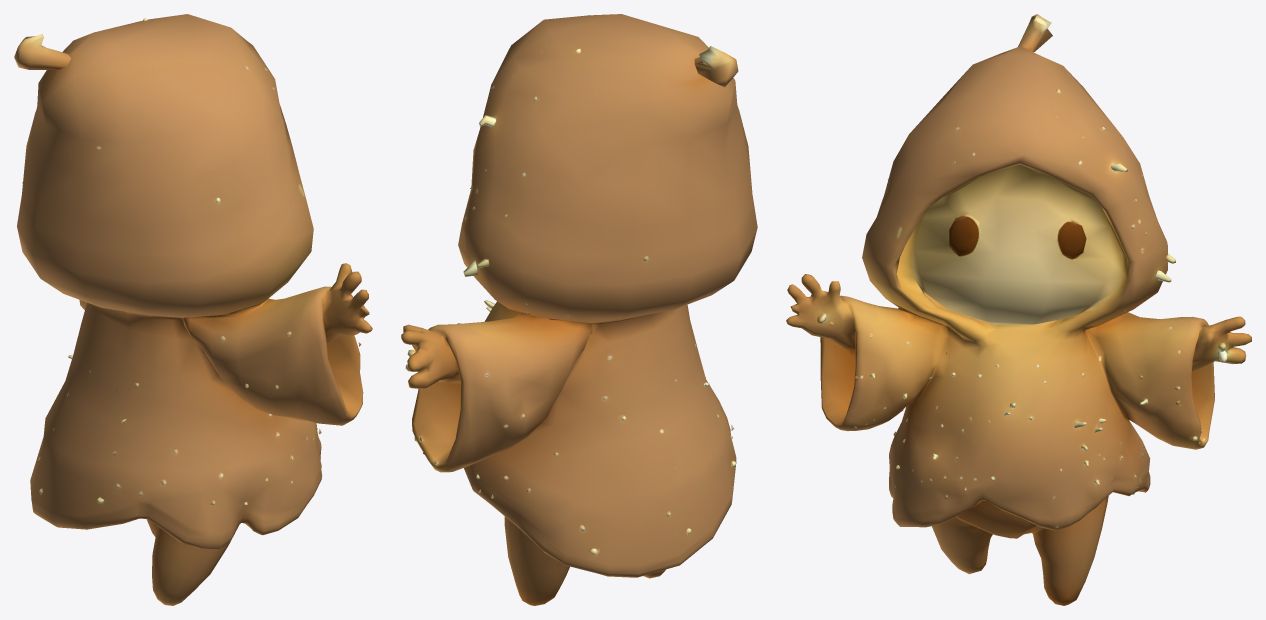
3 views of the same model, side by side, from view 1: azimuth 30°, elevation 25°; view 2: azimuth 150°, elevation 25°; view 3: azimuth 270°, elevation 25° (orthographic). The views are drawn at different scales.
Parts seen in each view (by area): view 1: tripo_node_4e6ad9df-aeb4-464b-8acd-00b65ca3df35; view 2: tripo_node_4e6ad9df-aeb4-464b-8acd-00b65ca3df35; view 3: tripo_node_4e6ad9df-aeb4-464b-8acd-00b65ca3df35.
Part boxes in pixels (bbox=[...]): tripo_node_4e6ad9df-aeb4-464b-8acd-00b65ca3df35: bbox=[14, 14, 372, 605]; tripo_node_4e6ad9df-aeb4-464b-8acd-00b65ca3df35: bbox=[401, 14, 757, 605]; tripo_node_4e6ad9df-aeb4-464b-8acd-00b65ca3df35: bbox=[786, 14, 1251, 605].
Size of the model in its own units: 0.4912 by 1 by 0.816.
Materials: 1 (1 with a texture image).
